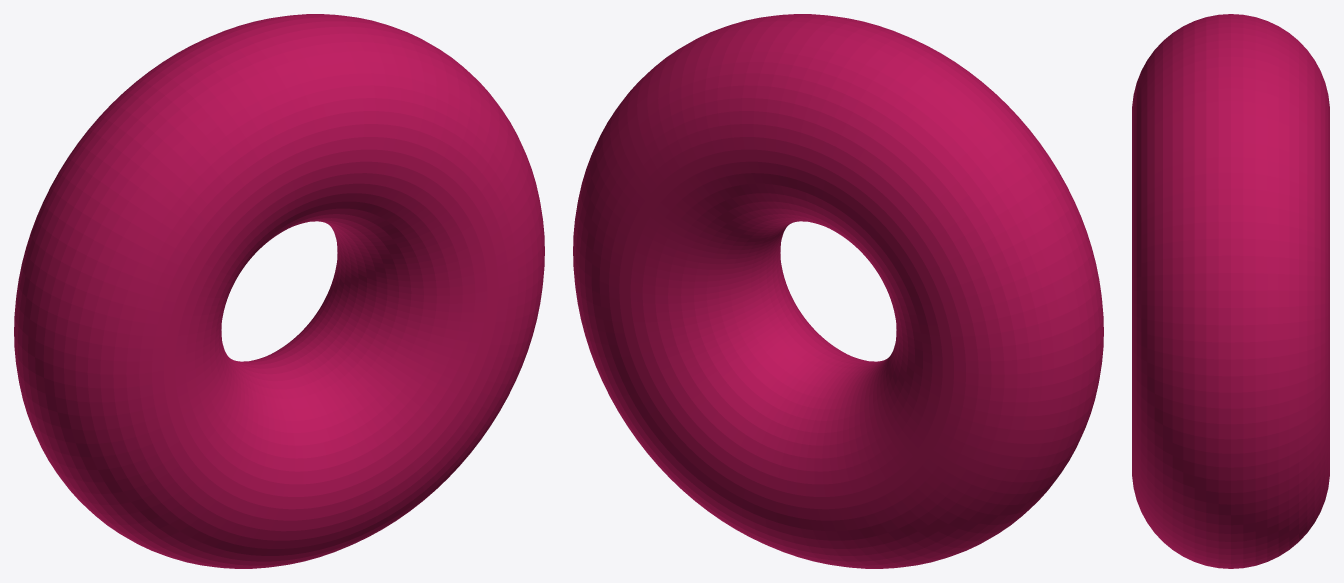
The picture shows the model from 3 angles, left to right: view 1: azimuth 30°, elevation 25°; view 2: azimuth 150°, elevation 25°; view 3: azimuth 270°, elevation 25°; orthographic projection. The views are drawn at different scales.
Parts seen in each view (by area): view 1: world; view 2: world; view 3: world.
Part boxes in pixels (left/top/right/bottom): world: left=14, top=14, right=544, bottom=568; world: left=573, top=14, right=1103, bottom=568; world: left=1132, top=14, right=1329, bottom=568.
Size of the model in its own units: 28 by 28 by 9.98.
